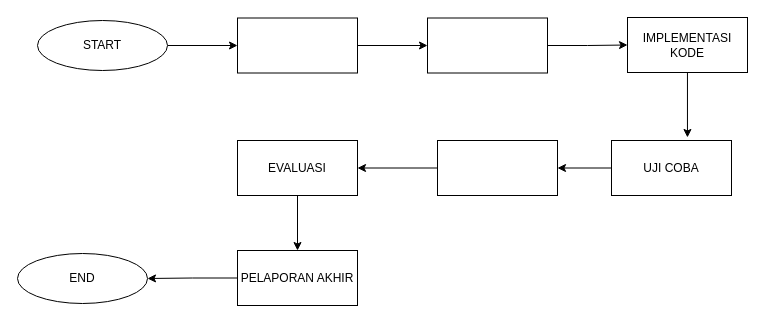
The diagram is 765 pixels wide and 323 high, and some of its shapes have lost their labels. Here are the shapes that lost their labels. From the top down, the centre of each, then its label:
point 297,45: STUDI LITERATUR
point 487,45: DESAIN UI/UX
point 497,168: SOSIALISASI DAN MONITORING
